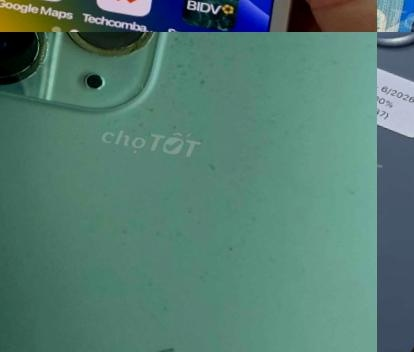scratch: (143, 32, 377, 126), (0, 32, 164, 107), (198, 136, 231, 191), (147, 212, 182, 252), (221, 236, 242, 261)
